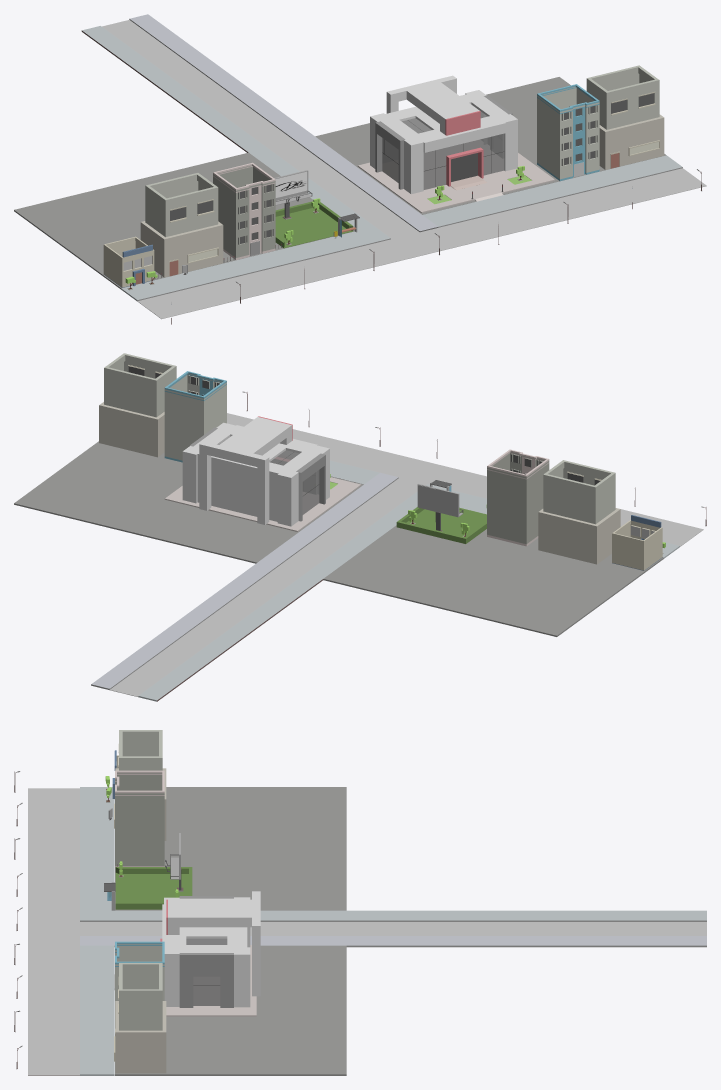
File: Edificio 1.fbx
The picture shows the model from 3 angles, top to bottom: view 1: azimuth 30°, elevation 25°; view 2: azimuth 150°, elevation 25°; view 3: azimuth 270°, elevation 25°; orthographic projection. The views are drawn at different scales.
Visible parts, largest first — view 1: Carretera2 (×2), Carretera1, pasted__Edificio1, Piso2 (×2), Edificio_2, Edificio_4, pasted__Edificio_3, Edificio_1, pasted__Piso1, Piso1, Tienda_1, Aviso_Grande; view 2: Piso2 (×2), Carretera1, pasted__Edificio1, Edificio_2, Carretera2 (×2), Edificio_4, Edificio_1, pasted__Edificio_3, Tienda_1, Piso1, pasted__Piso1, Aviso_Grande; view 3: Piso2 (×2), Carretera2 (×2), Carretera1, pasted__Edificio1, Edificio_4, Edificio_1, Piso1, Edificio_2, pasted__Piso1, pasted__Edificio_3.
Boxes of the visible parts, box(x1,y1,x2,y2) form: Carretera2 (×2): box(121, 155, 706, 319); Carretera1: box(81, 14, 438, 243); pasted__Edificio1: box(370, 75, 517, 194); Piso2 (×2): box(14, 77, 666, 289); Edificio_2: box(140, 173, 223, 277); Edificio_4: box(586, 65, 664, 169); pasted__Edificio_3: box(537, 84, 599, 180); Edificio_1: box(213, 162, 275, 260); pasted__Piso1: box(357, 140, 554, 213); Piso1: box(275, 201, 353, 248); Tienda_1: box(103, 236, 154, 287); Aviso_Grande: box(274, 170, 312, 219); Piso2 (×2): box(14, 441, 663, 636); Carretera1: box(91, 472, 445, 701); pasted__Edificio1: box(182, 416, 329, 526); Edificio_2: box(538, 460, 620, 564); Carretera2 (×2): box(227, 413, 703, 558); Edificio_4: box(99, 353, 176, 457); Edificio_1: box(487, 449, 549, 546); pasted__Edificio_3: box(164, 371, 226, 462); Tienda_1: box(612, 515, 662, 570); Piso1: box(396, 507, 486, 543); pasted__Piso1: box(164, 477, 360, 531); Aviso_Grande: box(417, 483, 463, 531); Piso2 (×2): box(115, 787, 346, 1075); Carretera2 (×2): box(28, 787, 114, 1075); Carretera1: box(80, 910, 706, 947); pasted__Edificio1: box(160, 891, 260, 1007); Edificio_4: box(114, 963, 166, 1073); Edificio_1: box(115, 770, 164, 868); Piso1: box(115, 867, 192, 909); Edificio_2: box(114, 730, 166, 840); pasted__Piso1: box(114, 945, 256, 1016); pasted__Edificio_3: box(115, 941, 164, 1028).
Bounding box in the file's own units: 157 × 21.56 × 160.
